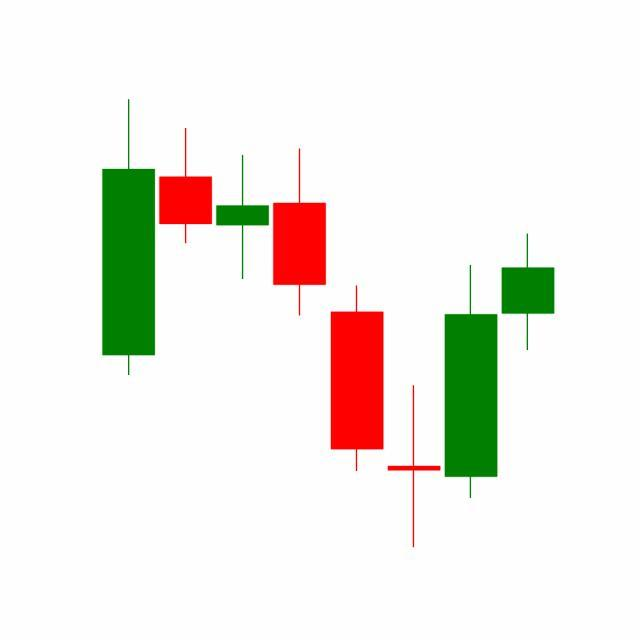Morning Star: (328, 261, 500, 548)
